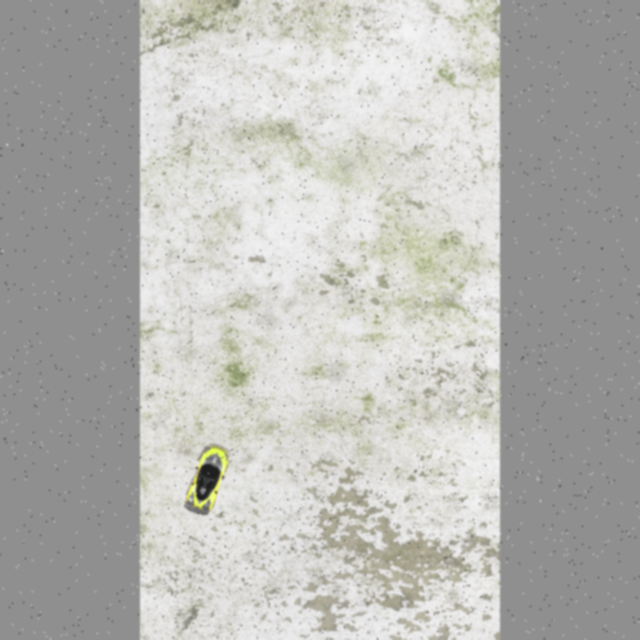car: (179, 442, 233, 519)
